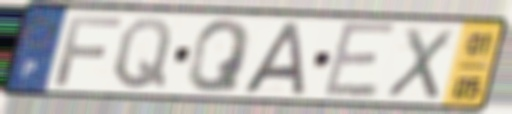A: (239, 20, 307, 96)
E: (319, 18, 400, 101)
F: (52, 14, 126, 89)
Q: (184, 17, 254, 95), (110, 15, 175, 92)
X: (382, 24, 457, 102)
